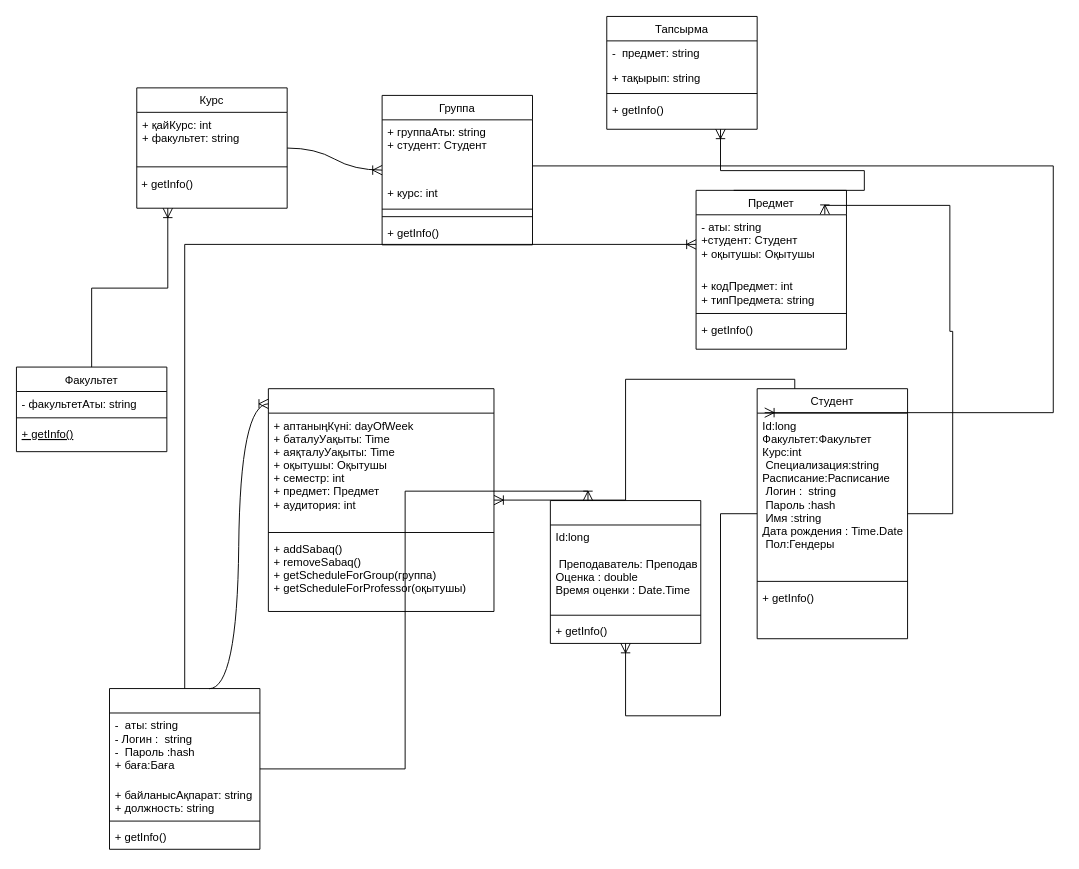
Some shapes in this 1079 by 869 pixel diagram are drawn without their labels. Each missing label, with the box of its shape:
Баға: (549, 500, 701, 643)
Күнтүзбе: (267, 388, 494, 611)
Оқытушы: (109, 688, 260, 849)
